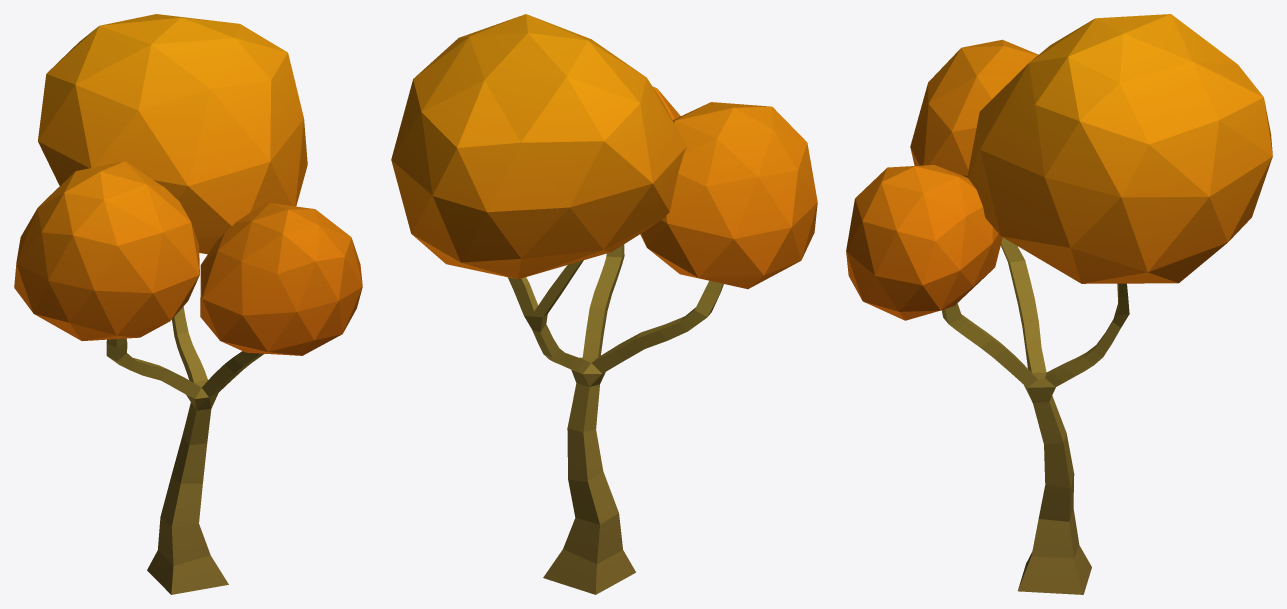
Rendered from tree_4.glb.
3 renders of one model, left to right at view 1: azimuth 30°, elevation 25°; view 2: azimuth 150°, elevation 25°; view 3: azimuth 270°, elevation 25°, orthographic. The views are drawn at different scales.
Visible parts, largest first — view 1: tree_4; view 2: tree_4; view 3: tree_4.
Boxes of the visible parts, box(x1,y1,x2,y2) form: tree_4: box(14, 14, 362, 594); tree_4: box(391, 14, 817, 594); tree_4: box(846, 14, 1272, 594).
Bounding box in the file's own units: 4.34 × 6.85 × 4.74.
Materials: 1 (1 with a texture image).
